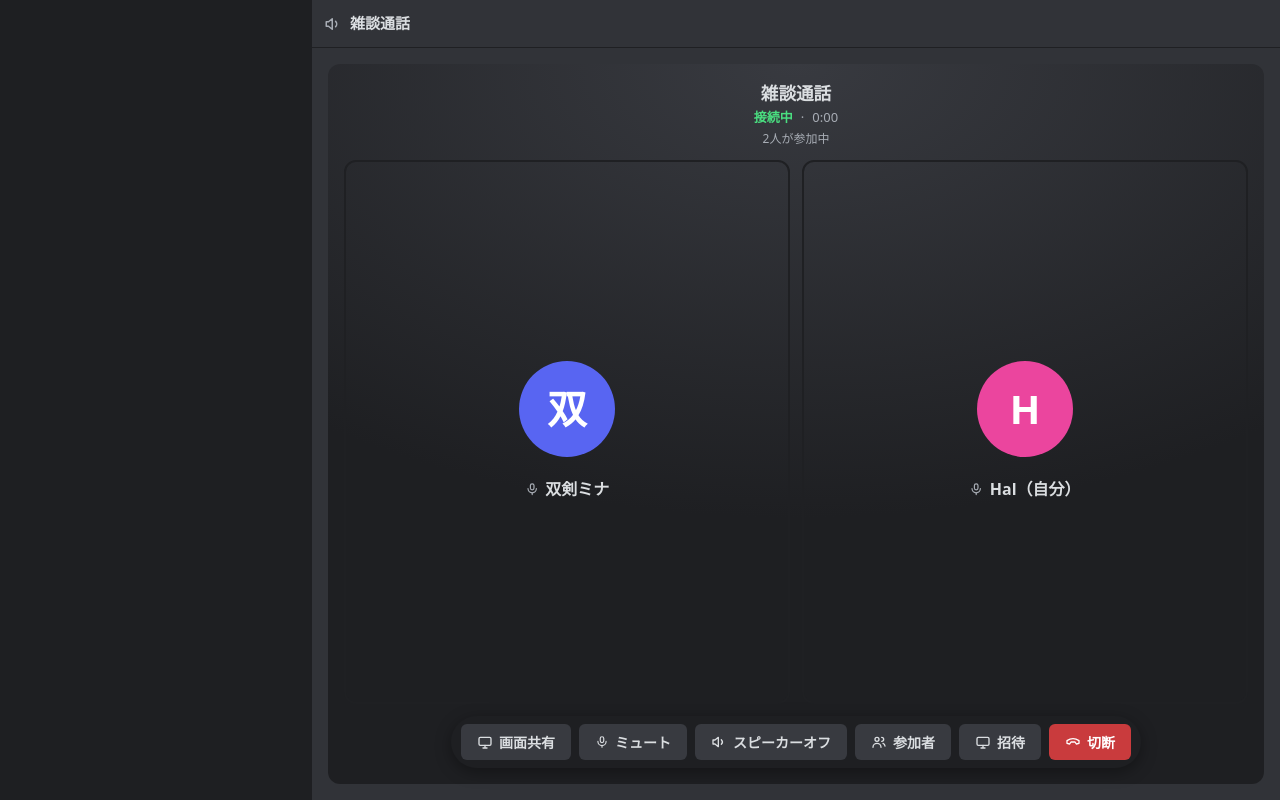
VoiceChannelView › 「切断」したあとは勝手に再接続しない
Click the button "切断".
click(1090, 742)  # box [1049,724,1131,760]
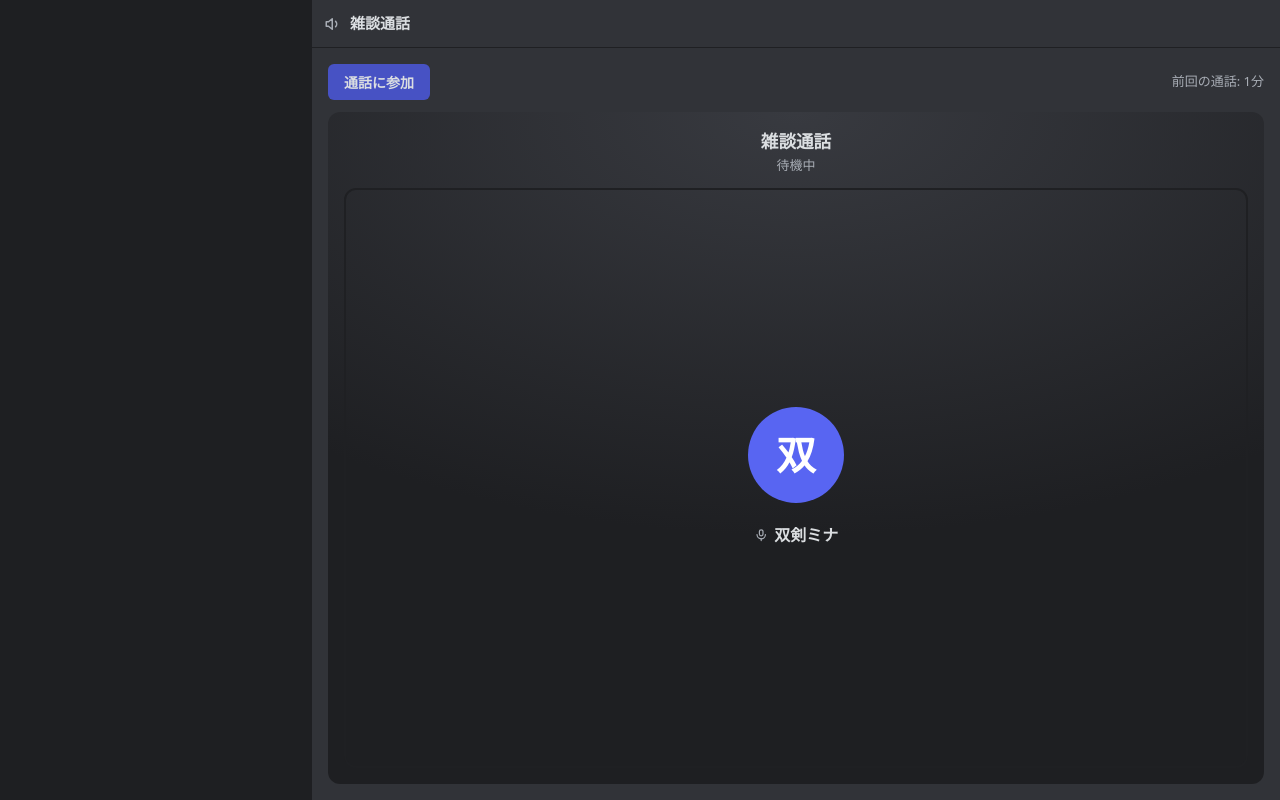
Check: the button "切断" is gone
